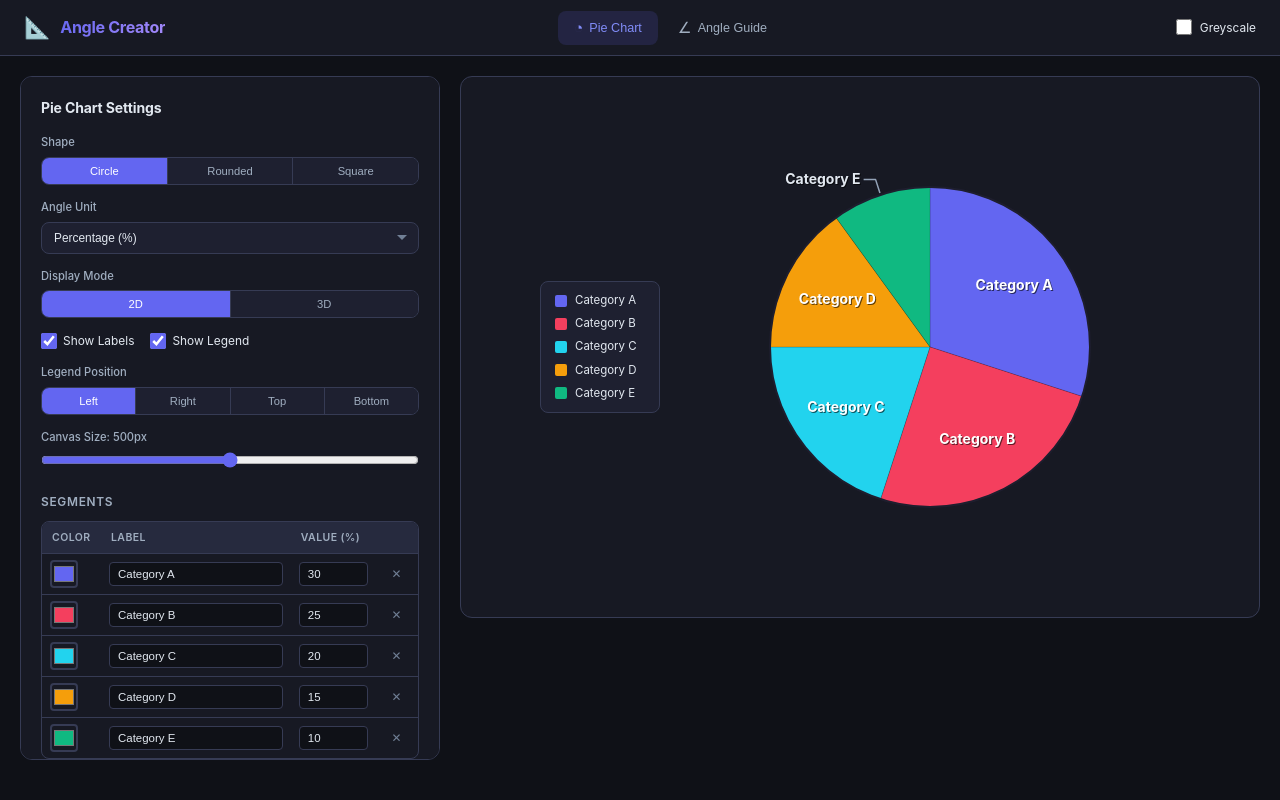
Test: App › switches back to Pie Chart tab
Click the button "∠ Angle Guide" at point(722, 28), box [662,10,783,44]
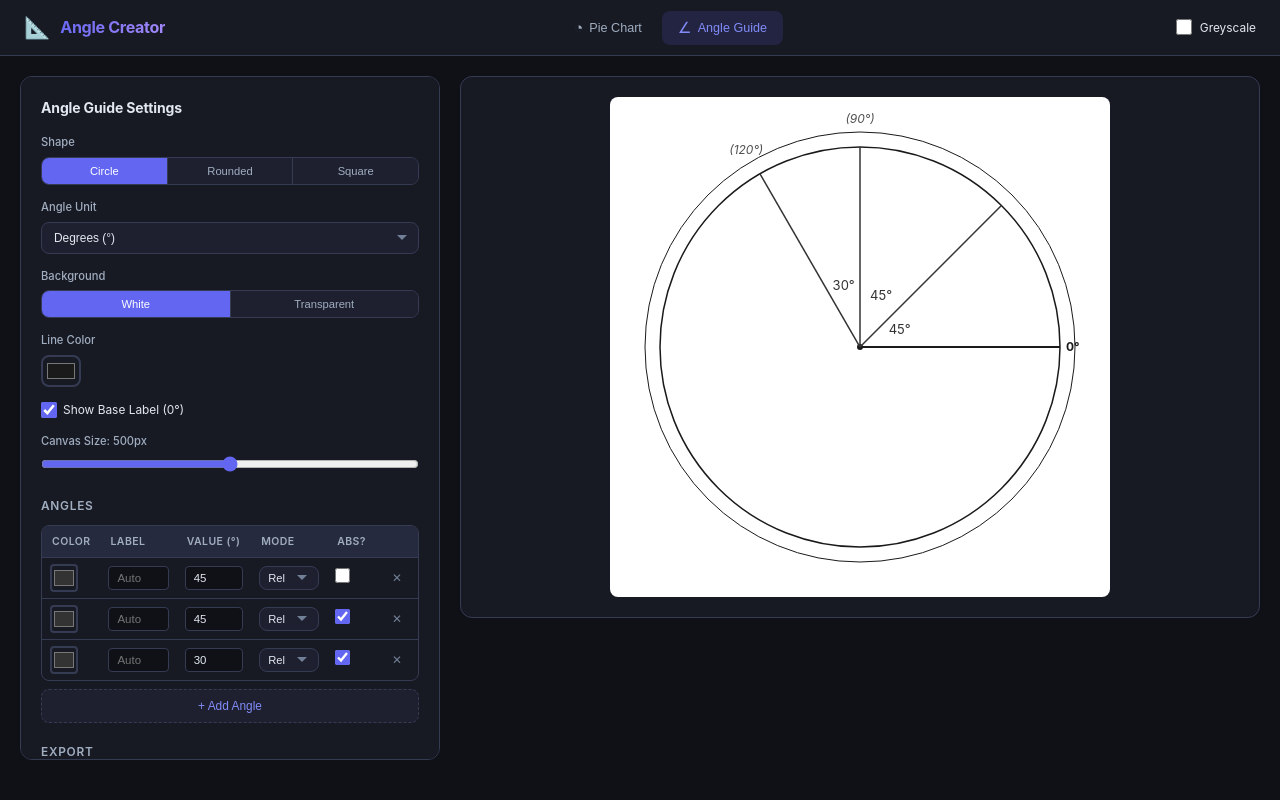
expect the heading "Angle Guide Settings" is shown: met, box [41,99,182,116]
Click the button "◔ Pie Chart" at point(608, 28), box [558,10,658,44]
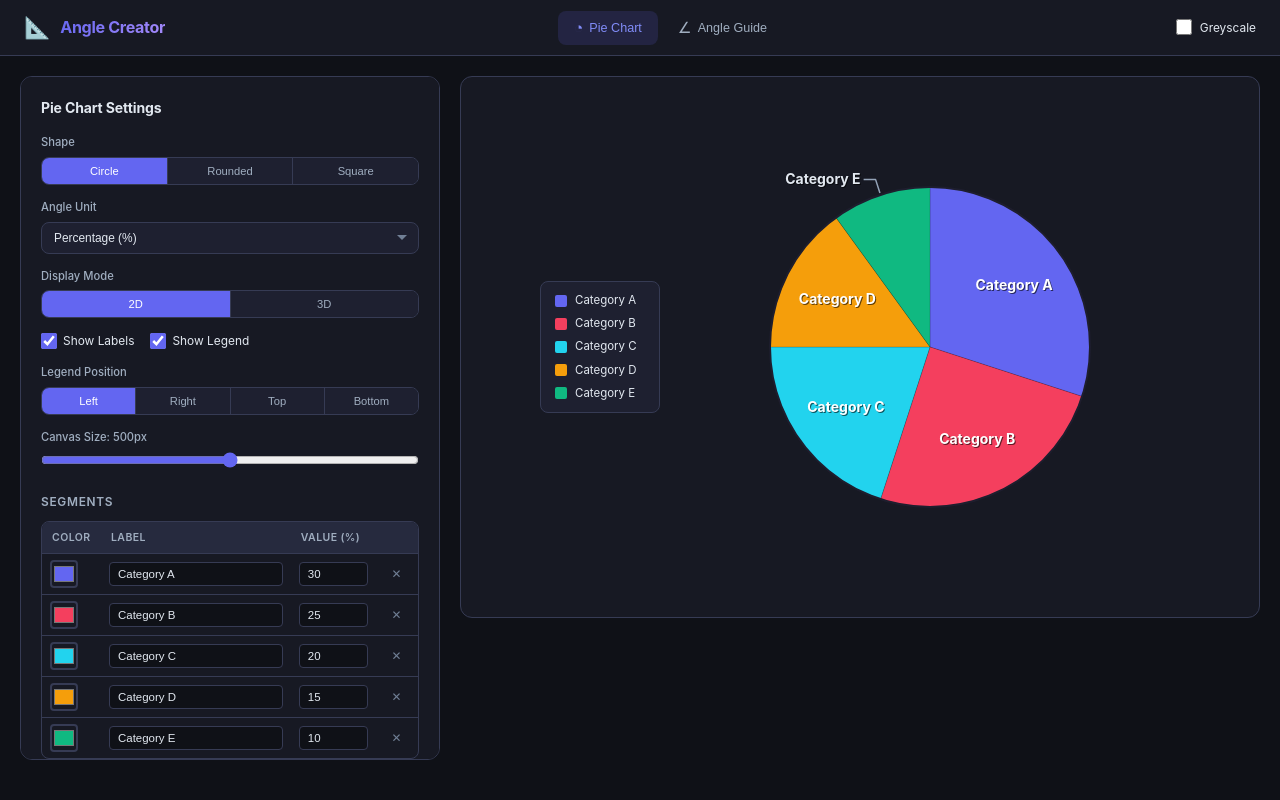
expect the heading "Pie Chart Settings" is shown: met, box [41,99,161,116]
